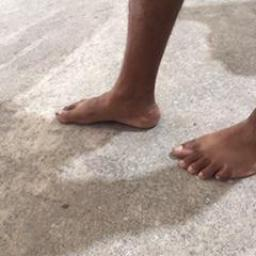Medial View -Right Foot-: (50, 66, 171, 142)
